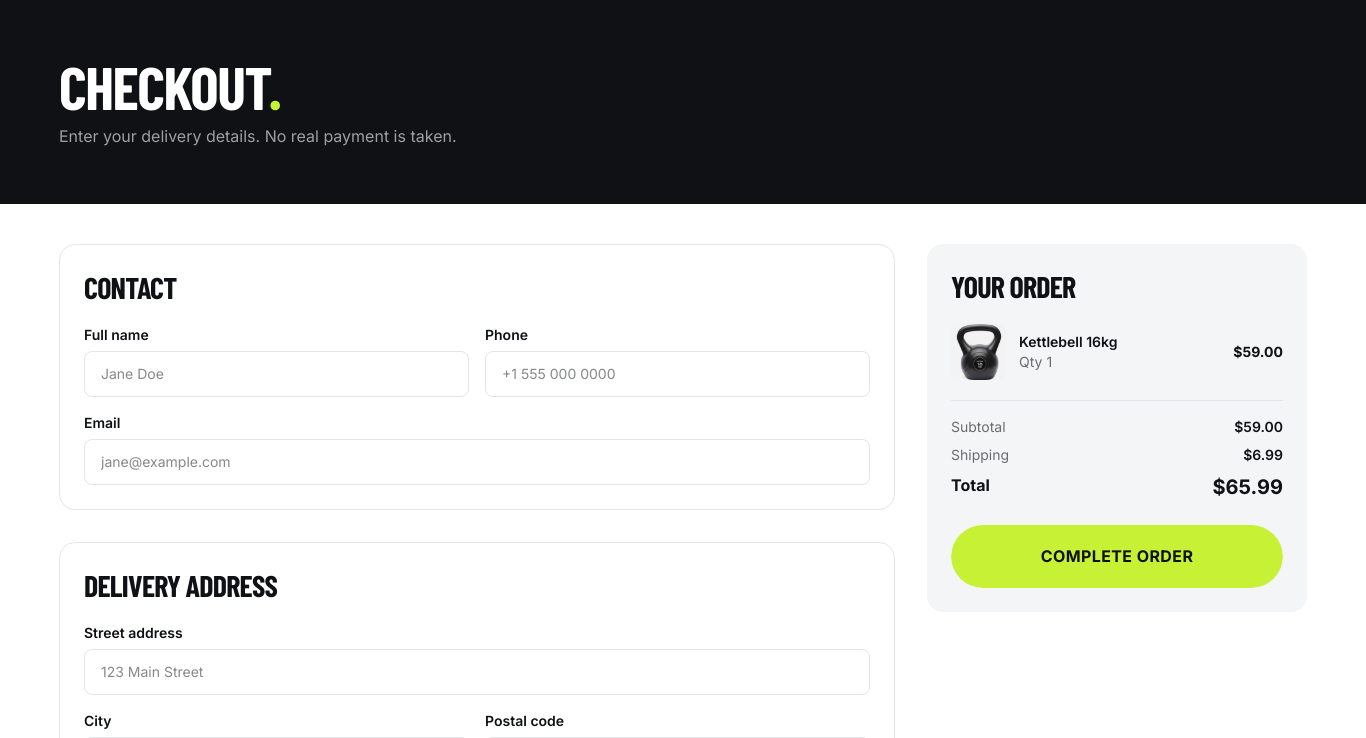
Checkout › rejects an invalid email
Step 1. Type "not-an-email" into the field labelled "Email" → (477, 462), box [84, 439, 870, 485]
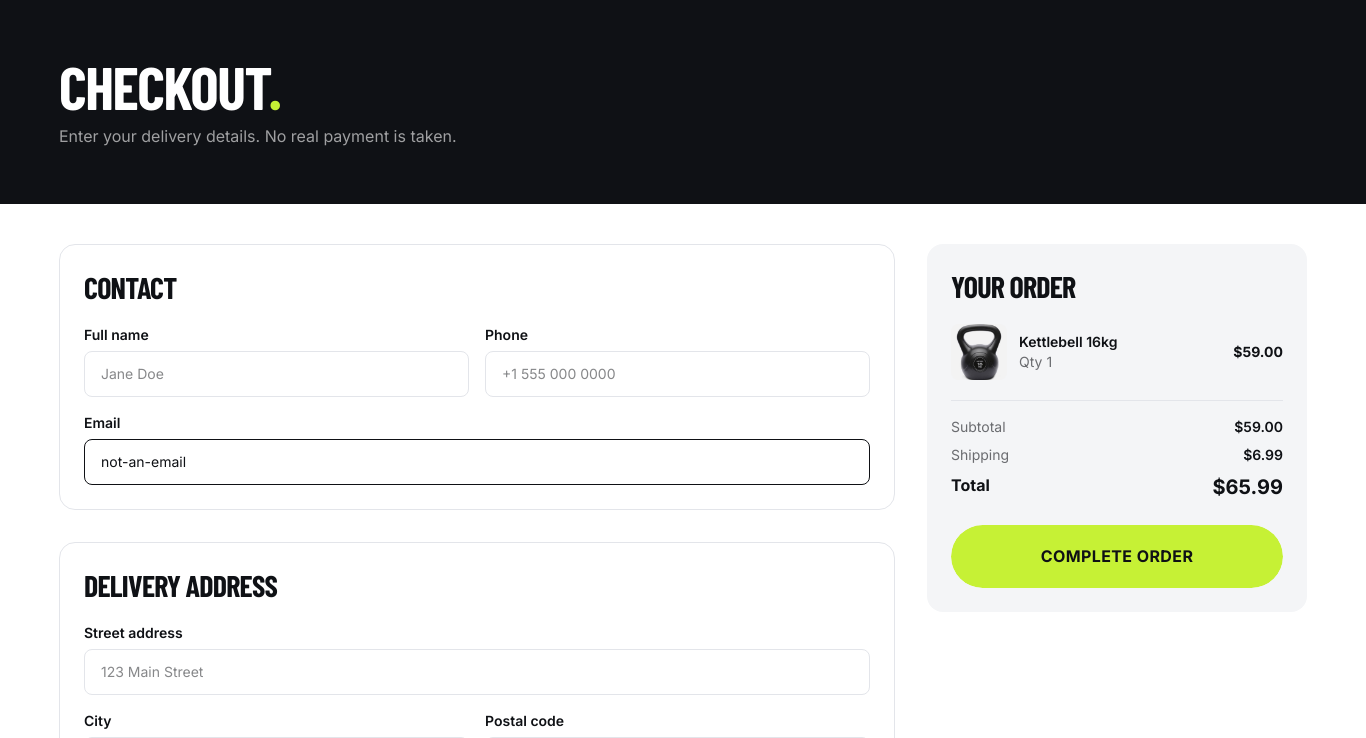
Step 2. Click the button "Complete Order" → (1117, 556), box [951, 525, 1283, 588]
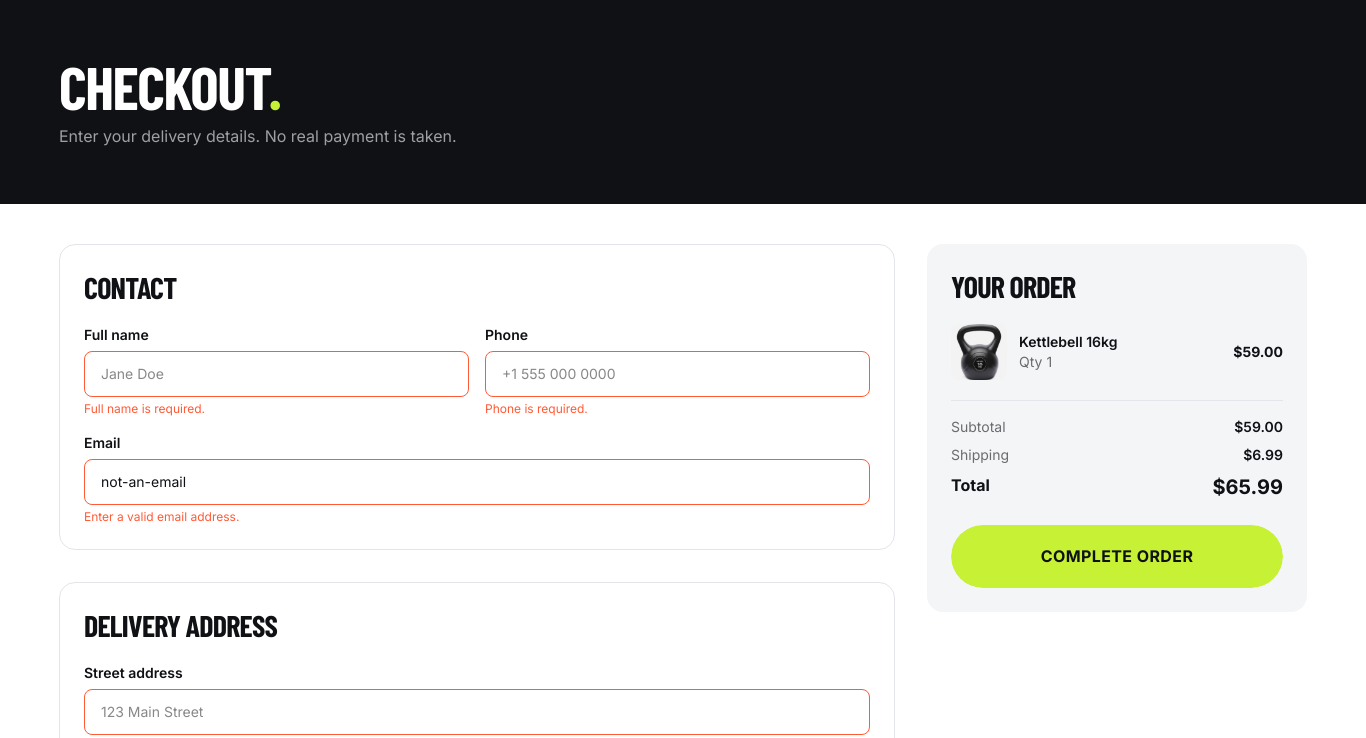
Now the text "Enter a valid email address." is shown, box [84, 509, 239, 524]
